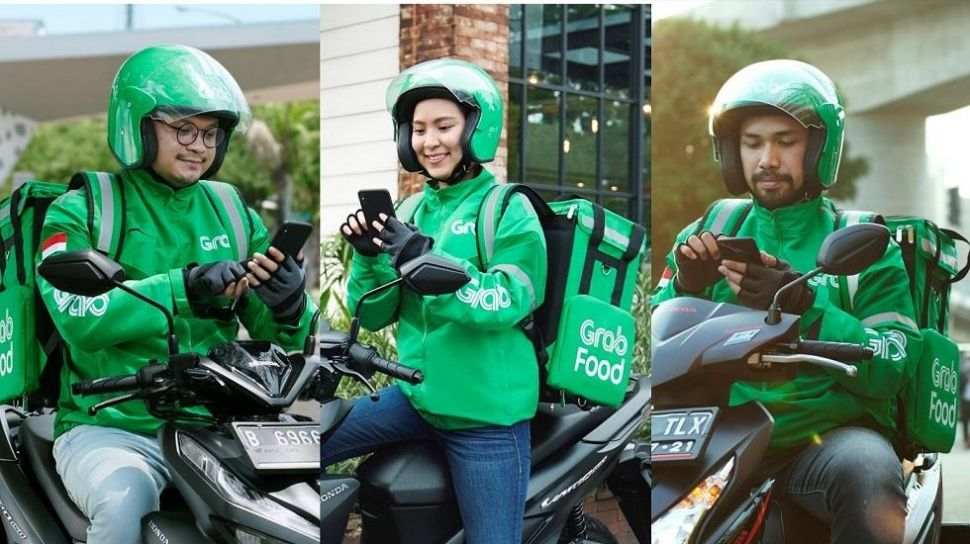su dung dien thoai: (117, 47, 314, 301), (341, 59, 502, 258), (710, 59, 823, 300)
